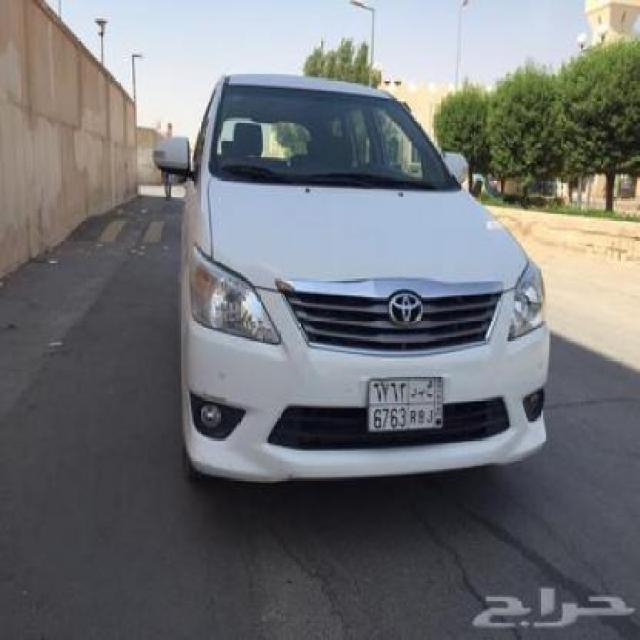license_plate: (365, 375, 446, 436)
